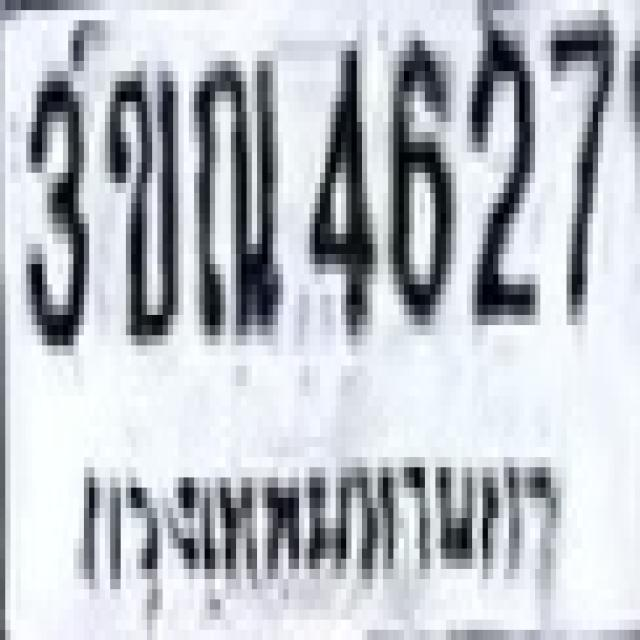2: (464, 15, 532, 310)
3: (21, 61, 84, 345)
4: (304, 31, 372, 325)
6: (386, 30, 448, 315)
7: (548, 5, 611, 310)
A02: (100, 61, 173, 335)
A19: (189, 51, 278, 335)
BKK: (64, 433, 558, 604)
